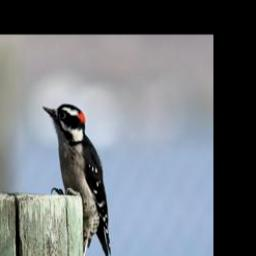Woodpecker: (41, 102, 112, 256)
